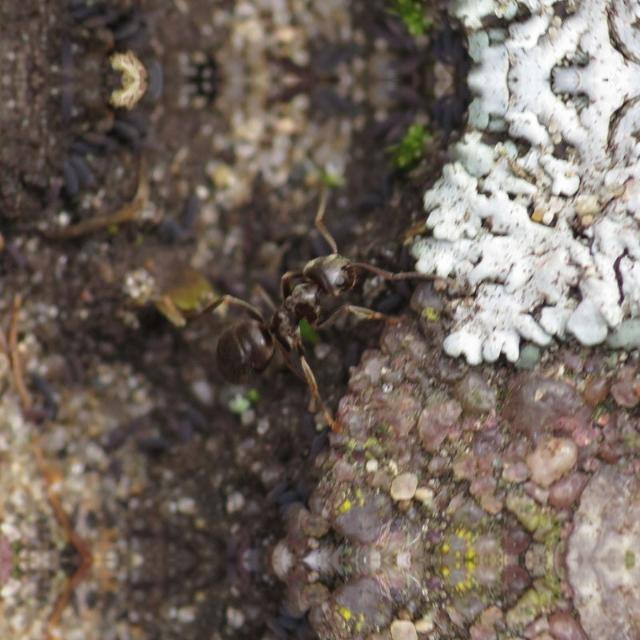Lasius: (191, 223, 385, 403)
